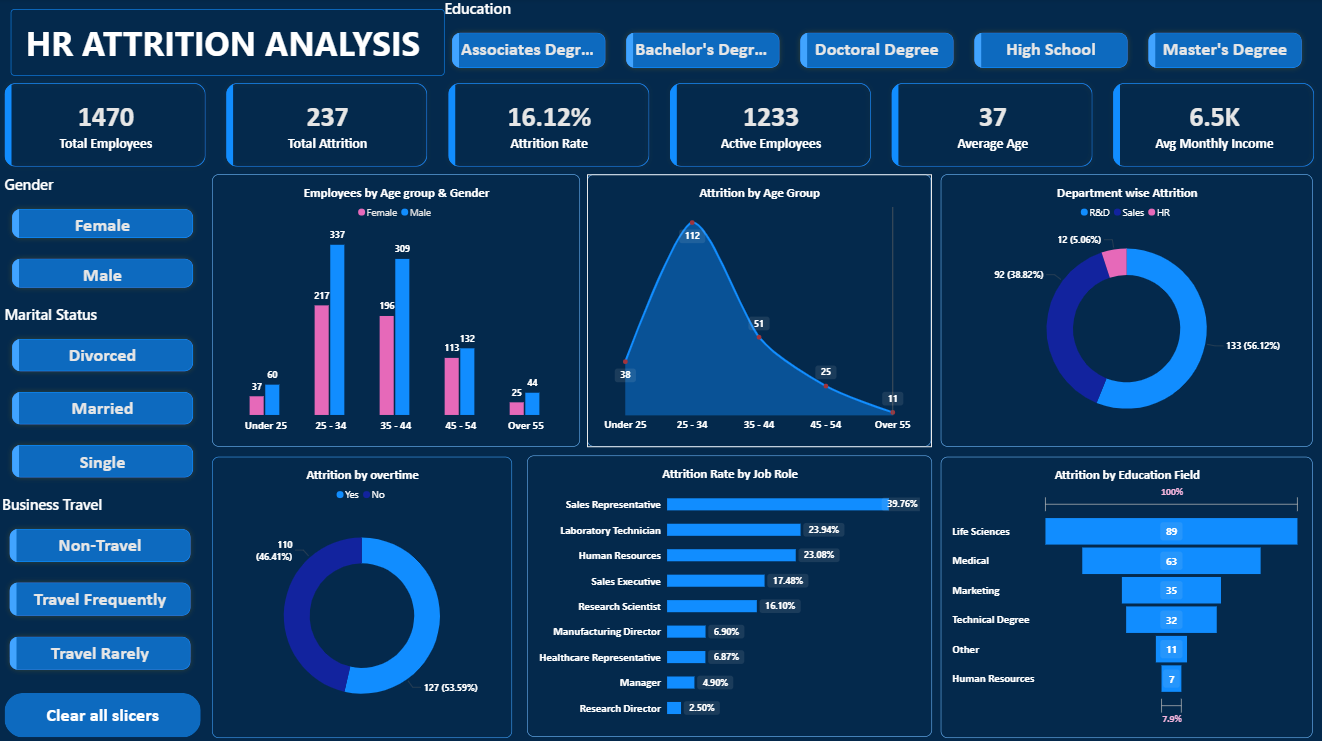

Layout of this report page (visuals, bound fields, positions):
{"tool":"powerbi","page":{"name":"Page 1","canvas":[1920,1080],"ordinal":0},"visuals":[{"type":"cardVisual","fields":{"Data":["HR data (2).Total_Employees","HR data (2).Total Attrition","HR data (2).Attrition_Rate","HR data (2).Active_Employee","Avg(HR data (2).Age)","Avg(HR data (2).Monthly Income)"]},"box":[0,111.9,1920.5,143.1],"z":0},{"type":"clusteredColumnChart","title":"Employees by Age group & Gender","fields":{"Category":["HR data (2).Age_Group"],"Series":["HR data (2).Gender"],"Y":["HR data (2).Total_Employees"]},"box":[311.4,255.7,532.9,394.3],"z":1000},{"type":"areaChart","title":"Attrition by Age Group","fields":{"Category":["HR data (2).Age_Group"],"Y":["HR data (2).Total Attrition"]},"box":[854.3,255.7,498.6,394.3],"z":2000},{"type":"donutChart","title":"Department wise Attrition","fields":{"Category":["HR data (2).Department"],"Y":["HR data (2).Total Attrition"]},"box":[1365.7,255.7,538.6,394.3],"z":3000},{"type":"clusteredBarChart","title":"Attrition Rate by Job Role","fields":{"Category":["HR data (2).Job Role"],"Y":["HR data (2).Attrition_Rate"]},"box":[767.3,662.3,586.3,407.2],"z":4000},{"type":"funnel","title":"Attrition by Education Field","fields":{"Category":["HR data (2).Education Field"],"Y":["HR data (2).Total Attrition"]},"box":[1365.7,663.3,538.6,407.1],"z":5000},{"type":"advancedSlicerVisual","fields":{"Values":["HR data (2).Gender"]},"box":[10.9,255.2,284.1,175.5],"z":6000},{"type":"advancedSlicerVisual","fields":{"Values":["HR data (2).Marital Status"]},"box":[10,442.9,284.3,262.9],"z":7000},{"type":"advancedSlicerVisual","fields":{"Values":["HR data (2).Business Travel"]},"box":[7.1,718.6,284.3,265.7],"z":8000},{"type":"advancedSlicerVisual","fields":{"Values":["HR data (2).Education"]},"box":[647.9,0,1255.9,112.2],"z":9000},{"type":"actionButton","box":[10,1005.7,284.3,64.3],"z":10000},{"type":"textbox","box":[19.9,16.3,628,95.9],"z":11000},{"type":"donutChart","title":"Attrition by overtime","fields":{"Category":["HR data (2).Over Time"],"Y":["HR data (2).Total Attrition"]},"box":[311.3,664.1,434.3,407.2],"z":12000}]}

Visuals, with their boxes in screenshot pixels (x1, y1, x2, y2), scaled from the page's 1920x1080 canvas onto the 1322x741 screenshot:
cardVisual - HR data (2).Total_Employees x HR data (2).Total Attrition: <box>0,77,1321,175</box>
"Employees by Age group & Gender" clusteredColumnChart: <box>214,175,581,446</box>
"Attrition by Age Group" areaChart: <box>588,175,932,446</box>
"Department wise Attrition" donutChart: <box>940,175,1311,446</box>
"Attrition Rate by Job Role" clusteredBarChart: <box>528,454,932,734</box>
"Attrition by Education Field" funnel: <box>940,455,1311,734</box>
advancedSlicerVisual - HR data (2).Gender: <box>8,175,203,296</box>
advancedSlicerVisual - HR data (2).Marital Status: <box>7,304,203,484</box>
advancedSlicerVisual - HR data (2).Business Travel: <box>5,493,201,675</box>
advancedSlicerVisual - HR data (2).Education: <box>446,0,1311,77</box>
actionButton: <box>7,690,203,734</box>
textbox: <box>14,11,446,77</box>
"Attrition by overtime" donutChart: <box>214,456,513,735</box>
